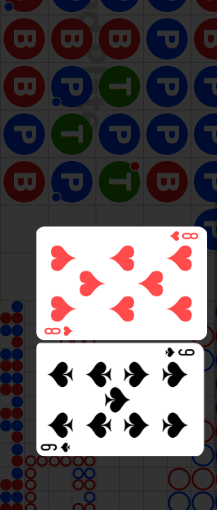8H: (167, 230, 199, 243)
9S: (40, 441, 73, 454)
